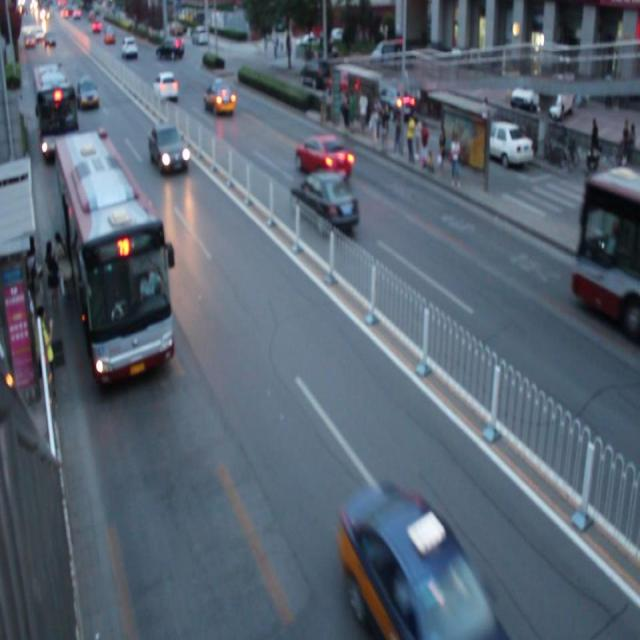car: (341, 481, 506, 640), (289, 170, 359, 233), (294, 133, 351, 179), (149, 121, 190, 176), (204, 78, 235, 118), (75, 75, 101, 111), (152, 72, 178, 105)
van: (53, 135, 172, 381), (569, 168, 640, 335), (31, 64, 79, 164)
